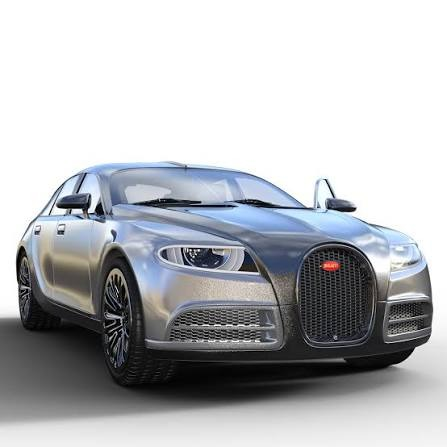car: (9, 156, 447, 386), (7, 173, 421, 379)
